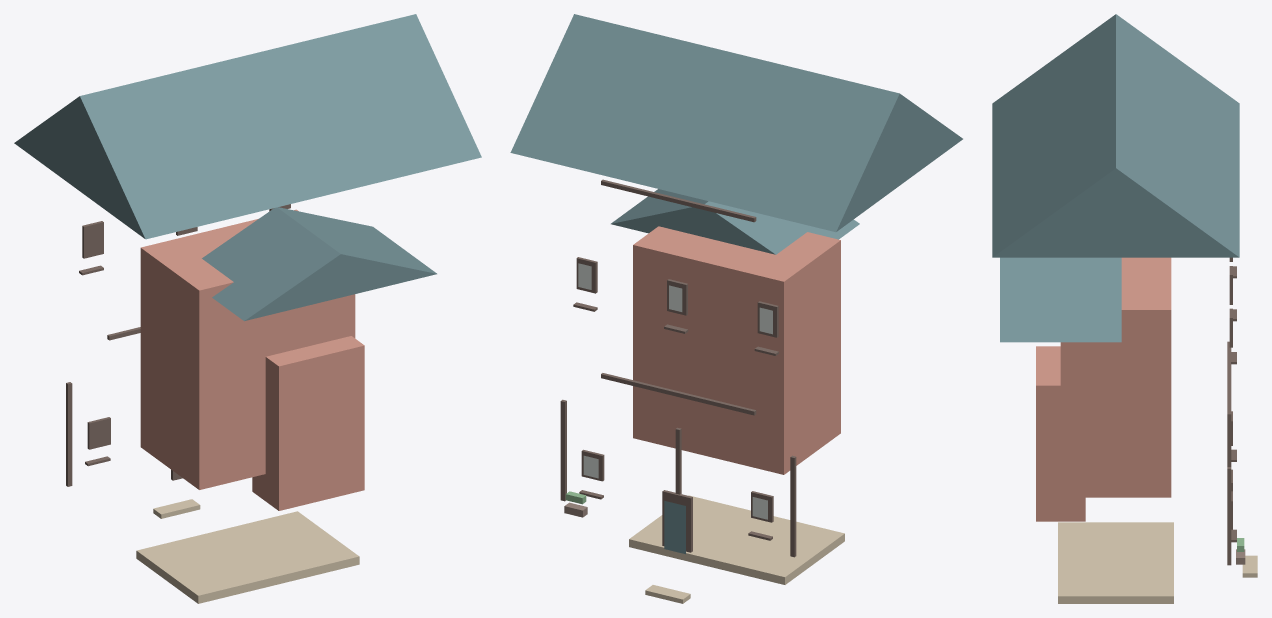
Rendered from harbour-warehouse-01.glb.
3 views of the same model, side by side, from view 1: azimuth 30°, elevation 25°; view 2: azimuth 150°, elevation 25°; view 3: azimuth 270°, elevation 25° (orthographic). The views are drawn at different scales.
Visible parts, largest first — view 1: roof, body, wing, wing_roof, plinth, uwf_1_-1.08, up_-1.37, wf_-1.01; view 2: roof, body, plinth, wing_roof, door, beam_1, beam_2, door_frame, up_-1.37, up_1.37; view 3: roof, body, wing_roof, plinth, wing, up_1.37, beam_1.
Boxes of the visible parts, left/top/right/bottom form: roof: left=14, top=14, right=481, bottom=239; body: left=140, top=209, right=355, bottom=489; wing: left=252, top=336, right=364, bottom=510; wing_roof: left=202, top=207, right=436, bottom=321; plinth: left=136, top=511, right=359, bottom=603; uwf_1_-1.08: left=82, top=221, right=103, bottom=258; up_-1.37: left=66, top=382, right=72, bottom=486; wf_-1.01: left=87, top=417, right=110, bottom=449; roof: left=510, top=14, right=962, bottom=232; body: left=633, top=226, right=840, bottom=474; plinth: left=629, top=495, right=844, bottom=584; wing_roof: left=611, top=189, right=859, bottom=254; door: left=664, top=501, right=685, bottom=554; beam_1: left=601, top=373, right=756, bottom=415; beam_2: left=601, top=179, right=756, bottom=222; door_frame: left=662, top=490, right=692, bottom=552; up_-1.37: left=790, top=455, right=796, bottom=557; up_1.37: left=560, top=399, right=566, bottom=501; roof: left=992, top=14, right=1239, bottom=257; body: left=1060, top=257, right=1171, bottom=497; wing_roof: left=1000, top=257, right=1121, bottom=342; plinth: left=1058, top=522, right=1173, bottom=603; wing: left=1036, top=346, right=1085, bottom=521; up_1.37: left=1227, top=467, right=1231, bottom=565; beam_1: left=1227, top=341, right=1231, bottom=418.
Bounding box in the file's own units: 3.88 × 5.61 × 2.82.
